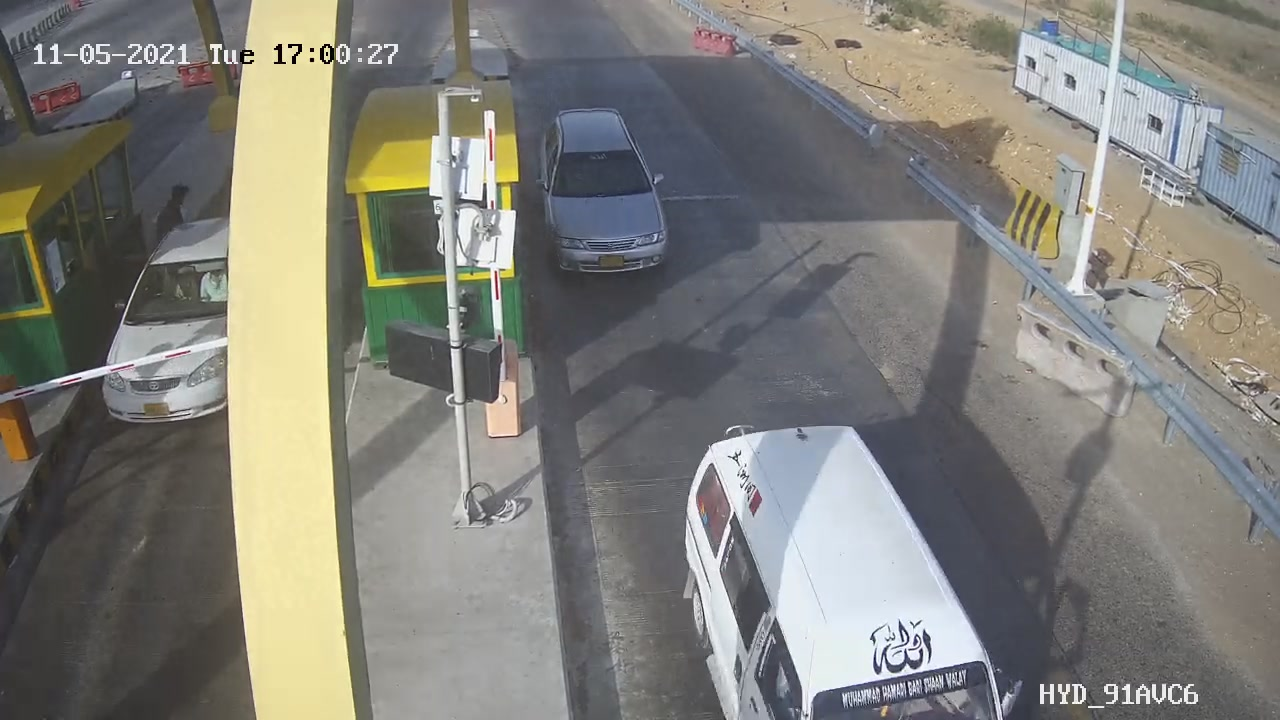F1: (517, 90, 696, 299)
